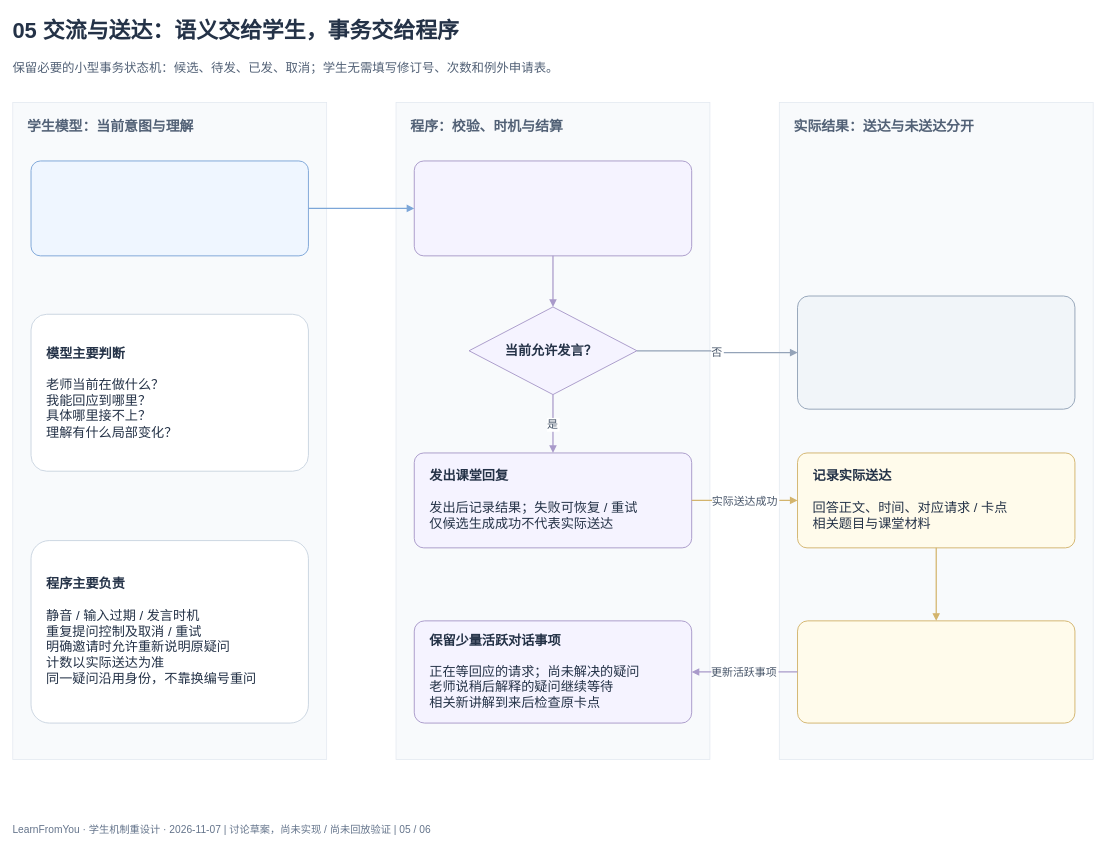
Some shapes in this 1106 by 853 pixel diagram are drawn without their labels. The shapes that lost their labels are listed below. From the top down, each one's centre as x and y in pixels, then its label:
At [169,208]: "提出一个课堂反应 静默 / 回答 / 提问 可指出目标请求、当前卡点和来源".
At [552,208]: "候选暂存＋格式 / 来源校验 无效输出走有限修复 编号、输入版本、次数由程序维护".
At [936,352]: "候选暂存 / 取消 / 静默 静音、输入过期、时机未到等 不算已回答，不增加实际提问次数 保留原因，必要时支持恢复 / 重试".
At [936,671]: "按实际送达结算 请求改为已回应；记录真实提问次数 形成实际问答历史与表现证据 完成请求退出下轮工作区".
